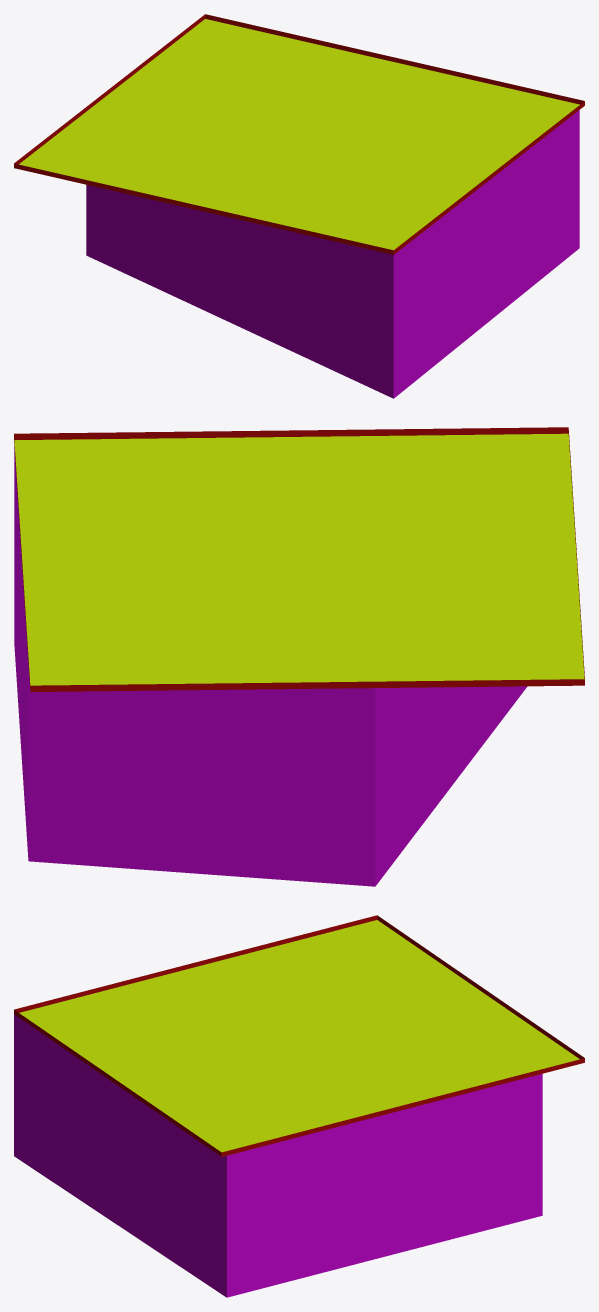
The model's file is bgj_87.glb.
The picture shows the model from 3 angles, top to bottom: view 1: azimuth 30°, elevation 25°; view 2: azimuth 150°, elevation 25°; view 3: azimuth 270°, elevation 25°; orthographic projection. The views are drawn at different scales.
Parts seen in each view (by area): view 1: bgj_87; view 2: bgj_87; view 3: bgj_87.
Part boxes in pixels (x1,y1,x2,y2): bgj_87: (14,14,584,398); bgj_87: (14,427,584,886); bgj_87: (14,915,584,1297).
Bounding box in the file's own units: 38.39 × 11.07 × 39.06.
